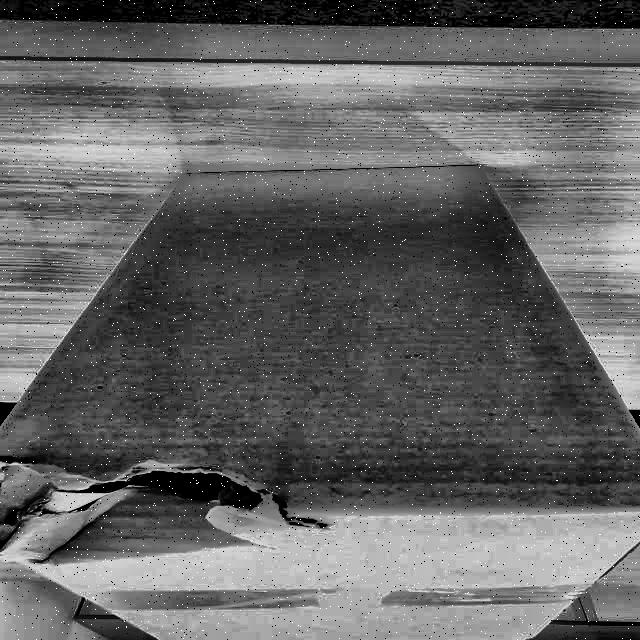box: (1, 159, 638, 640)
hole: (0, 448, 321, 560)
